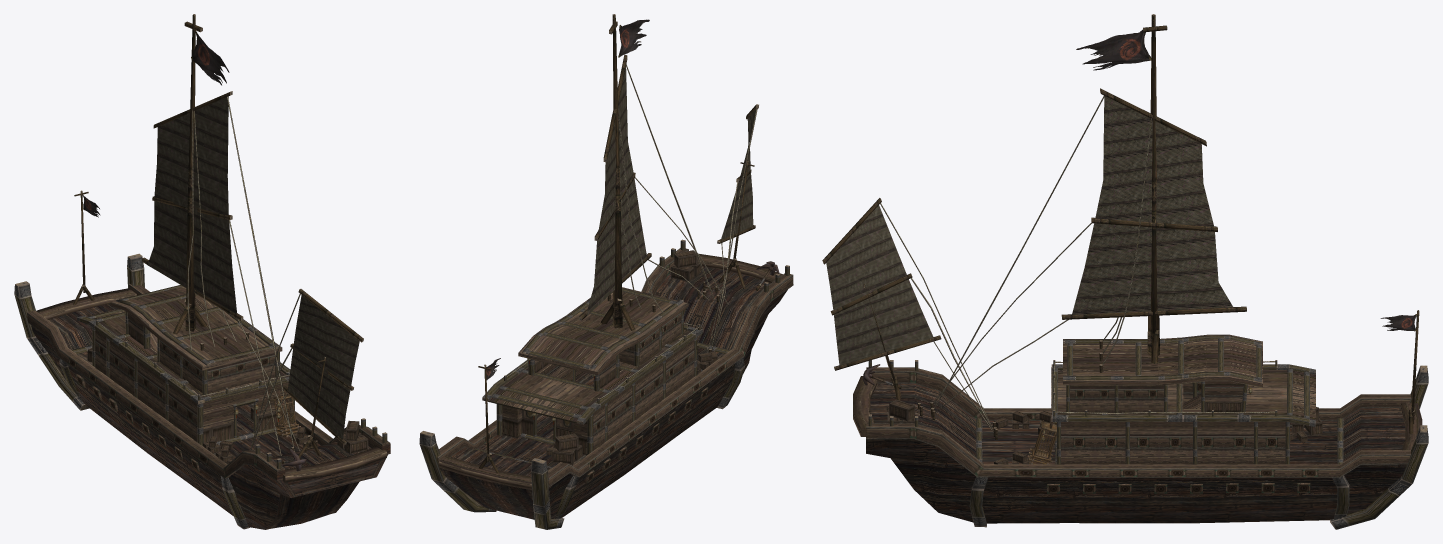
File: ship05.fbx
3 renders of one model, left to right at view 1: azimuth 30°, elevation 25°; view 2: azimuth 150°, elevation 25°; view 3: azimuth 270°, elevation 25°, orthographic. The views are drawn at different scales.
Visible parts, largest first — view 1: ship05; view 2: ship05; view 3: ship05.
Part boxes in pixels (x1,y1,x2,y2): ship05: (14, 14, 390, 529); ship05: (419, 14, 793, 529); ship05: (822, 14, 1428, 529).
Size of the model in its own units: 1532 by 5297 by 5935.
